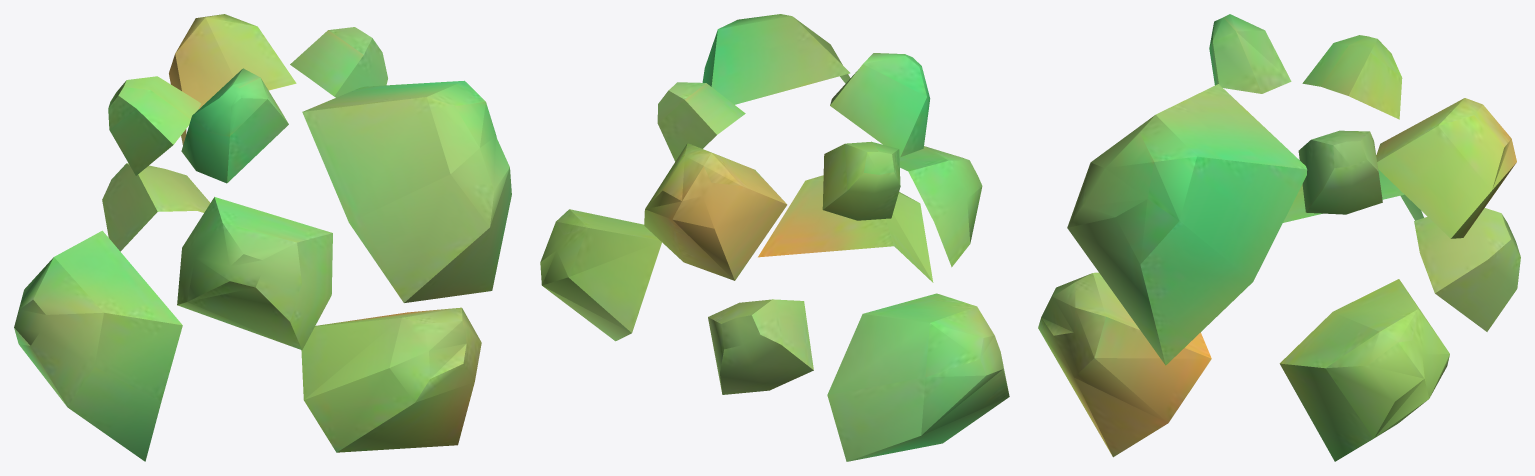
File: r32_erzpack_object_3.glb
The picture shows the model from 3 angles, left to right: view 1: azimuth 30°, elevation 25°; view 2: azimuth 150°, elevation 25°; view 3: azimuth 270°, elevation 25°; orthographic projection. The views are drawn at different scales.
Parts seen in each view (by area): view 1: erz_3; view 2: erz_3; view 3: erz_3.
Part boxes in pixels (bbox=[...]): erz_3: bbox=[14, 14, 511, 461]; erz_3: bbox=[540, 14, 1009, 461]; erz_3: bbox=[1038, 14, 1520, 461].
Bounding box in the file's own units: 1 × 0.7901 × 0.9062.
Materials: 1 (1 with a texture image).
